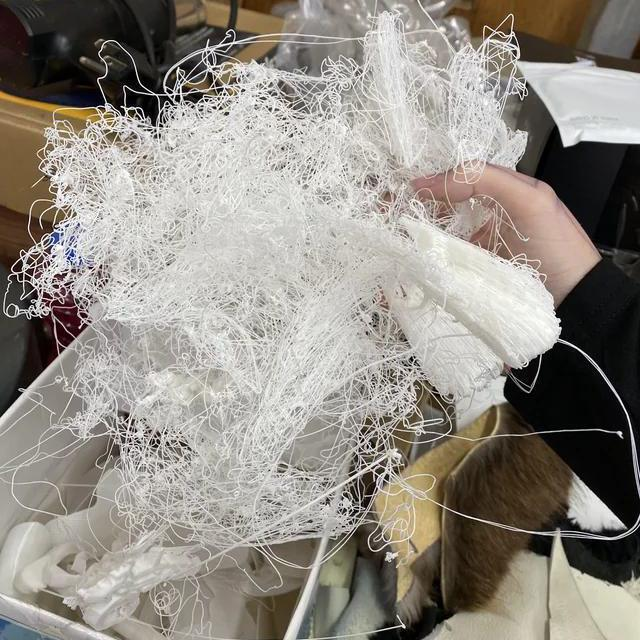Spaghetti: (245, 59, 391, 192), (106, 203, 247, 323), (252, 198, 396, 306), (395, 48, 517, 164), (47, 110, 157, 234), (154, 66, 245, 194), (215, 469, 358, 549), (120, 428, 218, 538), (244, 318, 360, 410), (1, 233, 106, 320), (67, 343, 147, 437), (358, 448, 424, 546), (169, 328, 237, 416)
